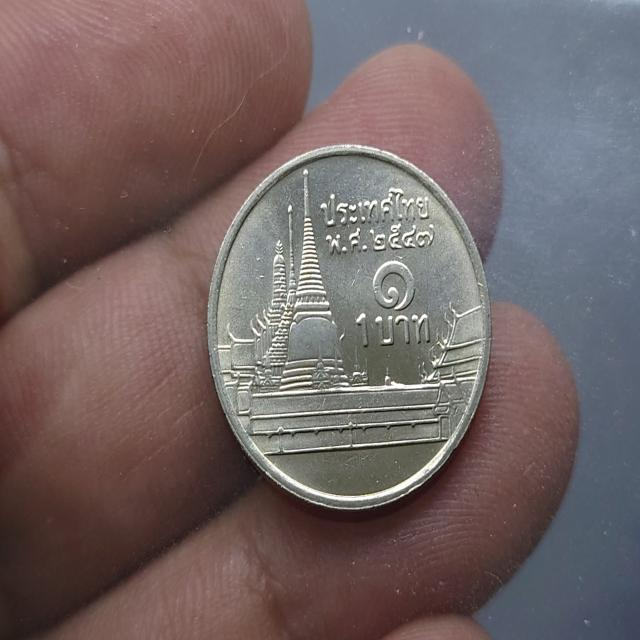1 Bath: (203, 132, 502, 522)
